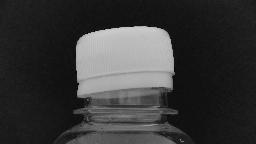Broken Cap: (66, 20, 184, 120)
Loose Cap: (72, 70, 180, 116)
